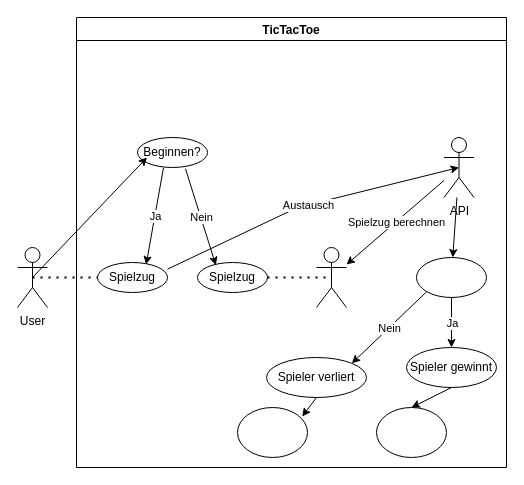
Some shapes in this 524 by 485 pixel diagram are drawn without their labels. The shapes that lost their labels are listed below. From the top down, each one's box as (x1, y1, x2, y2) in pixels, then its label:
(316, 246, 346, 308): AI
(416, 256, 486, 298): 3 in Reihe
(236, 406, 308, 458): Verlier- Bildschirm
(376, 406, 446, 458): Gewinn- Bildschirm
